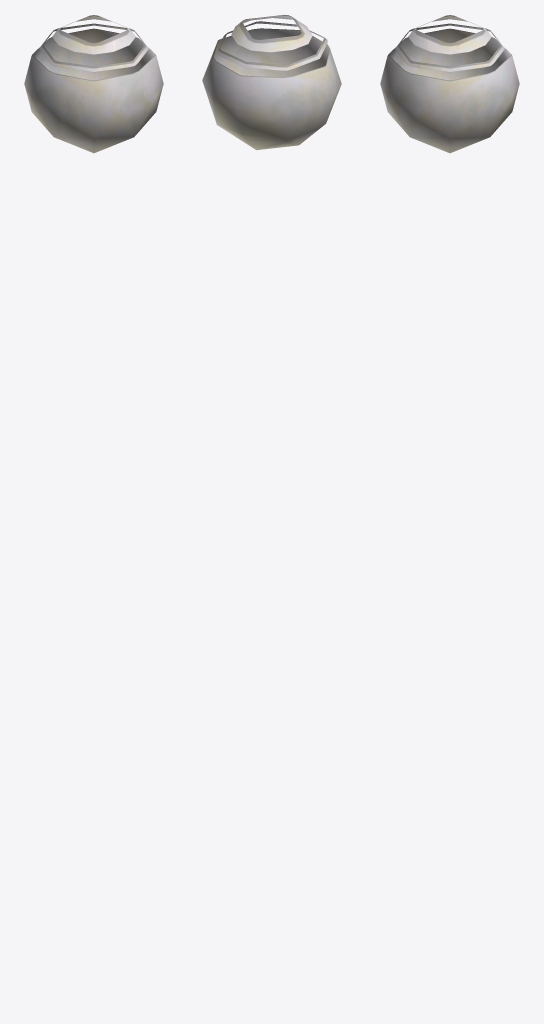
Rendered from mun_all_imprv_streetlamp_sm_s02_l1.fbx.
3 renders of one model, left to right at view 1: azimuth 90°, elevation 25°; view 2: azimuth 150°, elevation 25°; view 3: azimuth 270°, elevation 25°, orthographic.
Visible parts, largest first — view 1: mesh_node; view 2: mesh_node; view 3: mesh_node.
Part boxes in pixels (x1,y1,x2,y2): mesh_node: [24, 15, 163, 153]; mesh_node: [202, 14, 341, 150]; mesh_node: [380, 15, 519, 153].
Bounding box in the file's own units: 0.3084 × 2.11 × 0.3084.
1 material, 1 textured.
